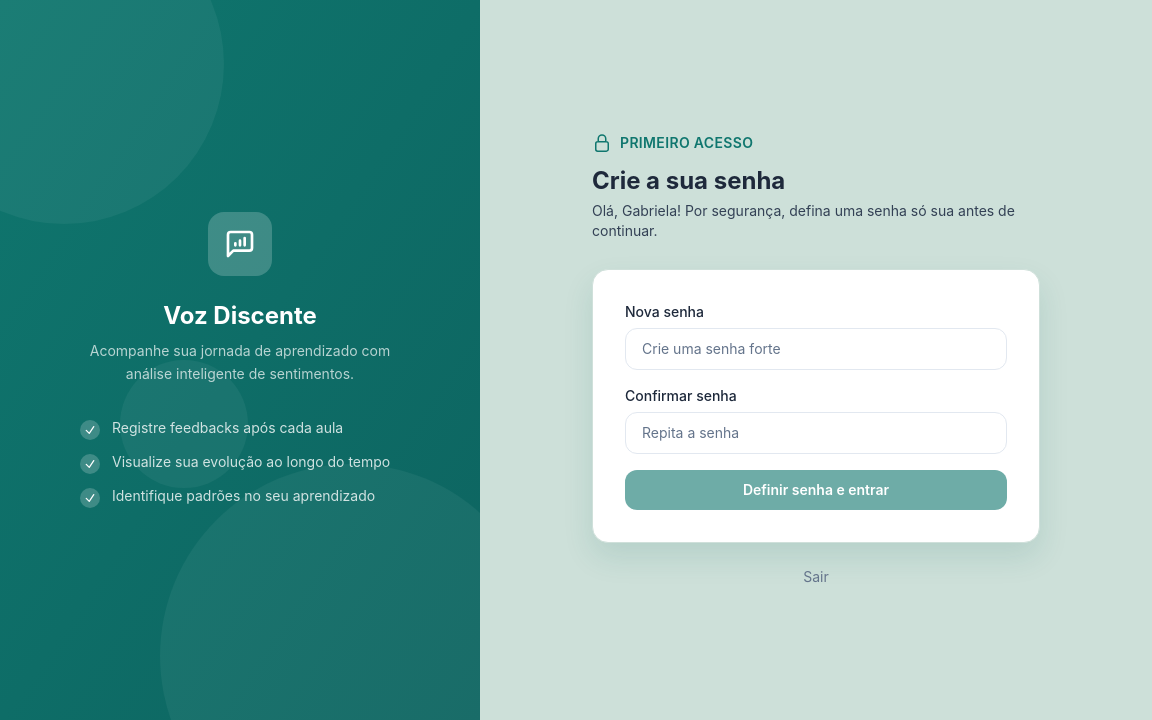
Test: checklist aparece a partir do primeiro caractere e marca os criterios
Type "G" into the password field labelled "Nova senha".
click(816, 348); type("G")  # box [625, 328, 1007, 370]
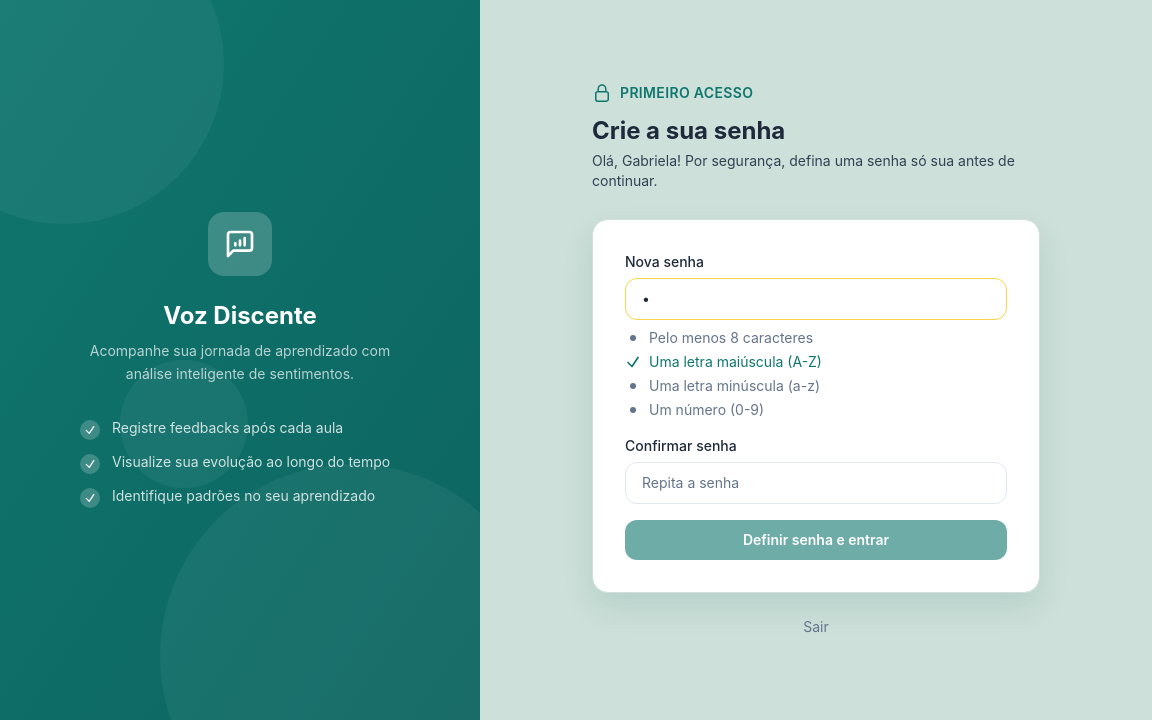
Result: the list named "requisitos da senha" is shown at [625, 328, 822, 418]
Type "Gabriela123" into the password field labelled "Nova senha".
click(816, 298); type("Gabriela123")  # box [625, 278, 1007, 320]
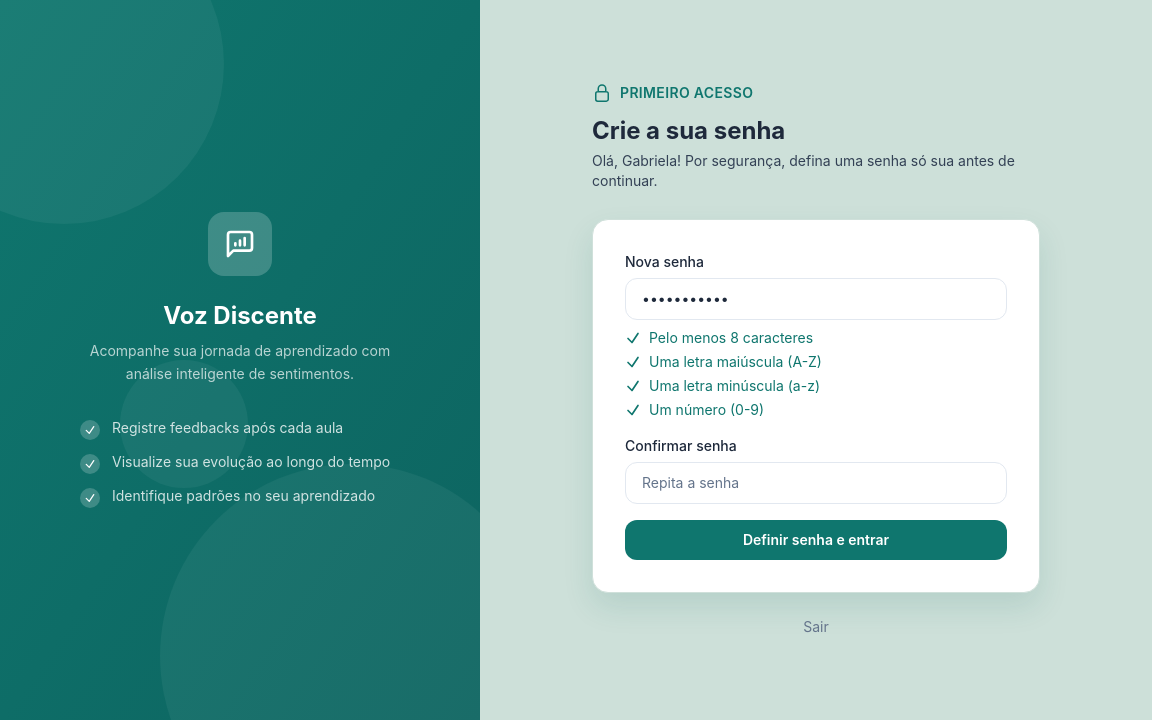
Result: the button "Definir senha e entrar" is enabled at [625, 520, 1007, 560]
